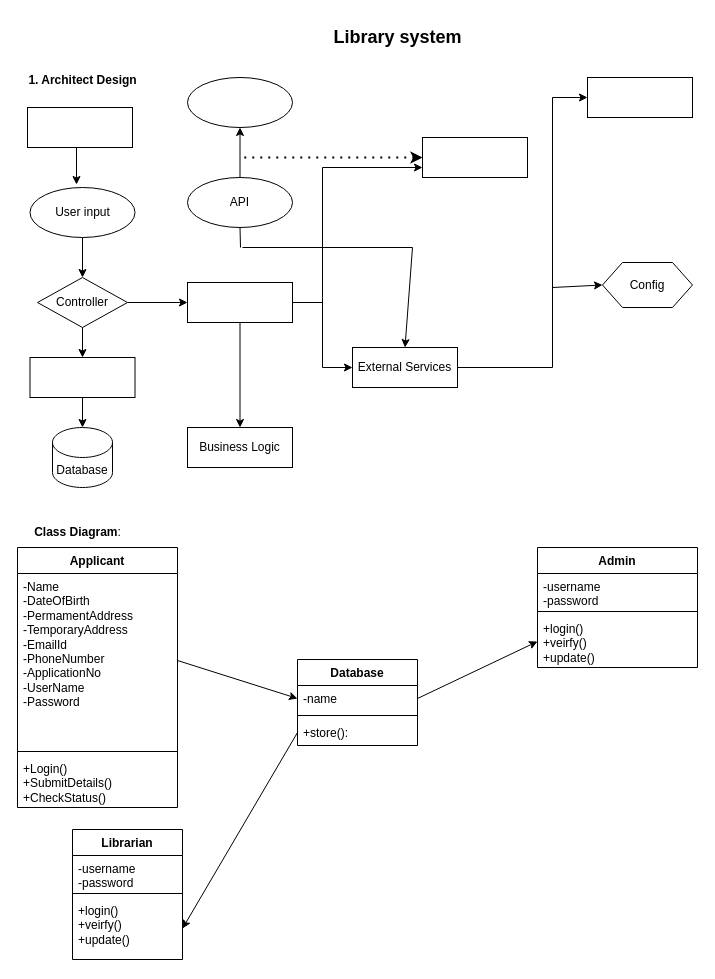
The diagram is 715 pixels wide and 979 high, and some of its shapes have lost their labels. The shapes that lost their labels are listed below. From the top down, each one's centre as x and y in pixels, then its label:
At [239,102]: "Logging".
At [639,97]: "Cache".
At [79,127]: "User Interface".
At [475,157]: "Authentication".
At [239,302]: "Service Layer".
At [82,377]: "Model".
